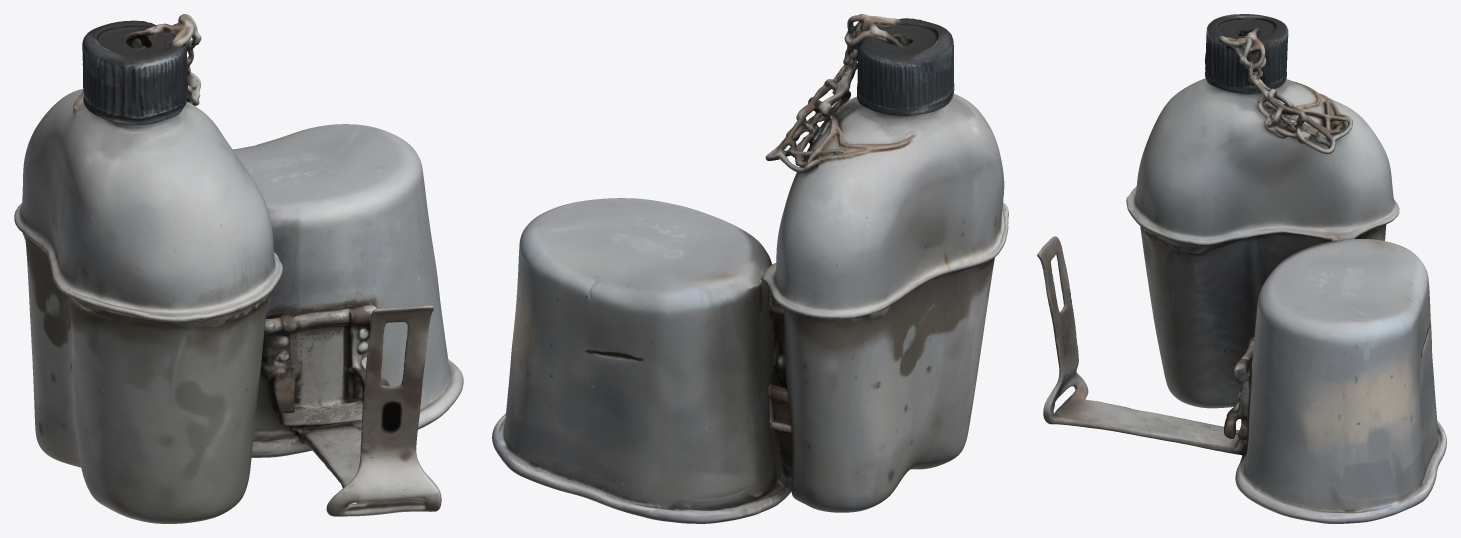
The model's file is Canteen.glb.
3 views of the same model, side by side, from view 1: azimuth 30°, elevation 25°; view 2: azimuth 150°, elevation 25°; view 3: azimuth 270°, elevation 25° (orthographic). The views are drawn at different scales.
Size of the model in its own units: 2 by 1.98 by 2.
Materials: 1 (1 with a texture image).
